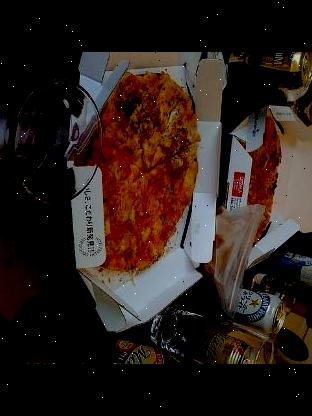Can: (211, 286, 287, 332), (224, 53, 312, 91), (273, 248, 312, 288)
